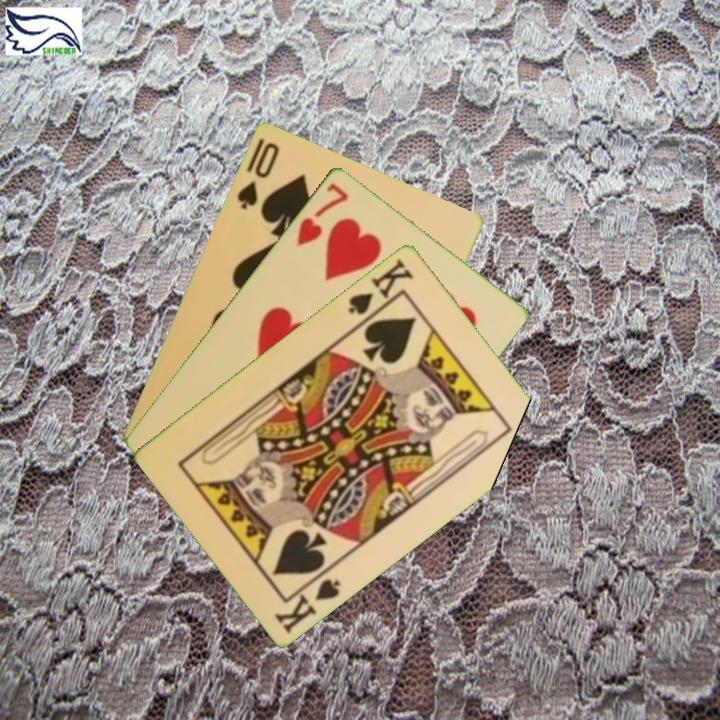10s: (233, 138, 282, 212)
7h: (293, 179, 352, 249)
Ks: (270, 563, 344, 636), (345, 254, 417, 326)
